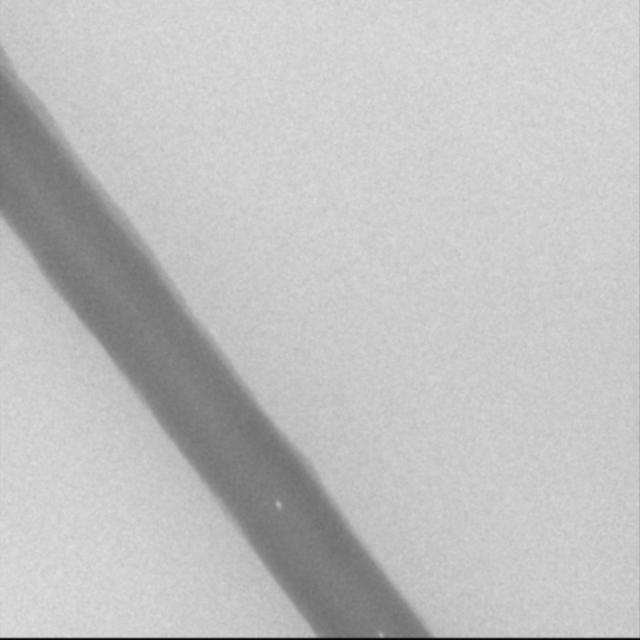air hole: (273, 499, 283, 510)
